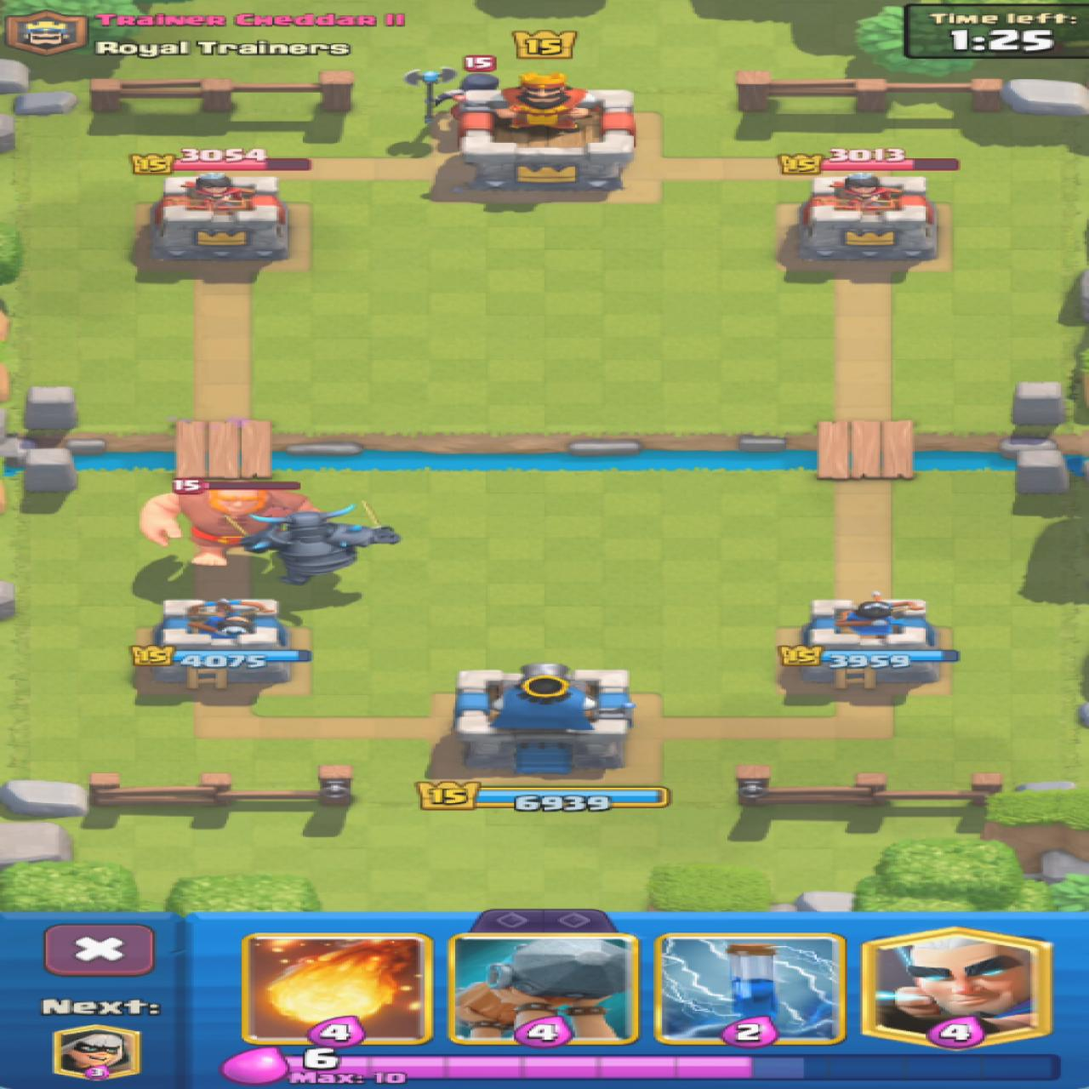Enemy-Giant: (139, 488, 316, 566)
Enemy-KingTower: (460, 73, 634, 190)
Enemy-NightWitch: (403, 67, 497, 123)
Enemy-PrincessTower: (150, 173, 287, 262), (799, 173, 934, 262)
